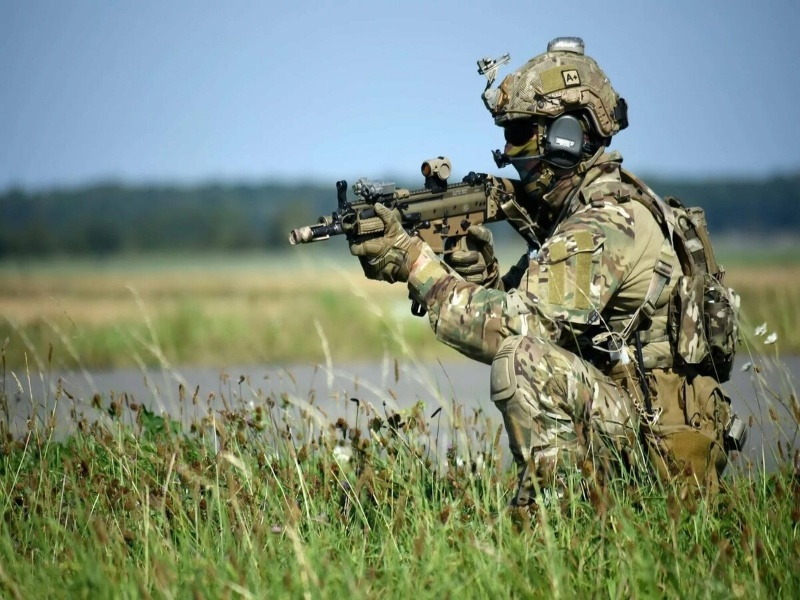person: (350, 36, 748, 494)
weapon: (289, 156, 522, 254)
